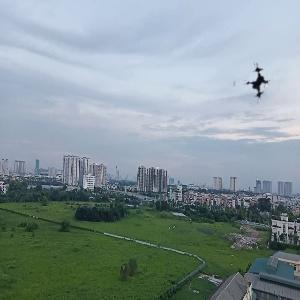drone: (231, 63, 276, 108)
